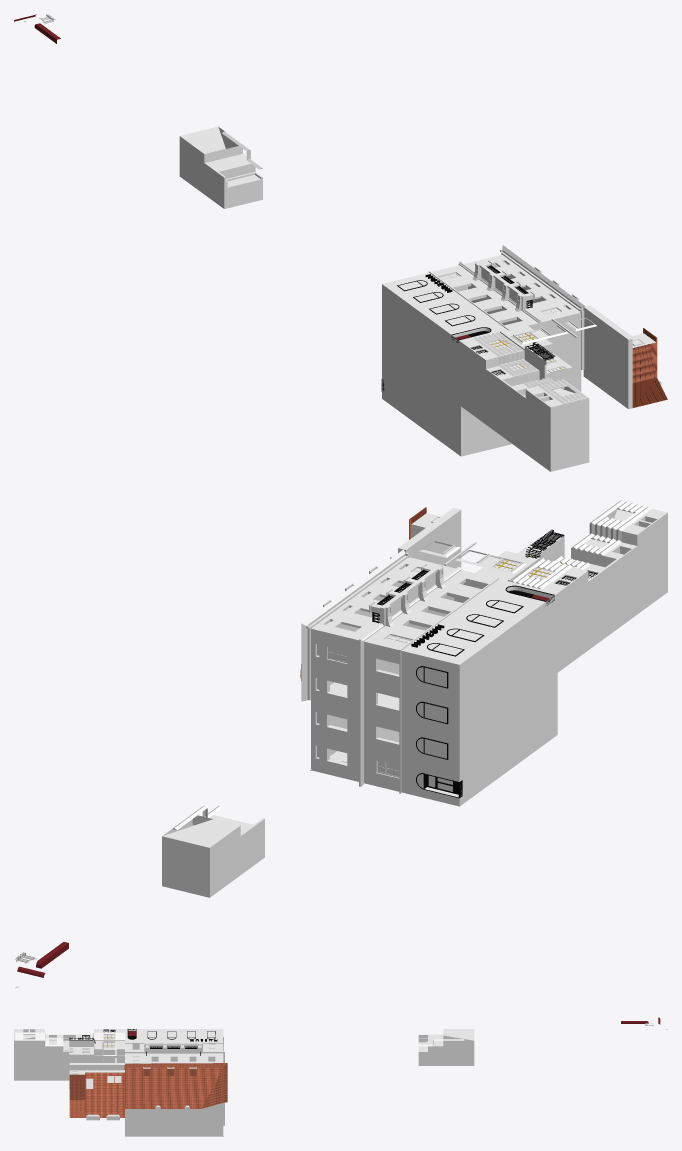
File: proj.971fe19b.glb
3 views of the same model, one above another, from view 1: azimuth 30°, elevation 25°; view 2: azimuth 150°, elevation 25°; view 3: azimuth 270°, elevation 25° (orthographic). The views are drawn at different scales.
Parts seen in each view (by area): view 1: ProzorMuzeja, Cube, Cube.024, Cube.029, Cube.003, Cube.005, Plane.001, Cube.028, Cube.021, Cube.009, ProzorMuzeja.001; view 2: ProzorMuzeja, Cube.024, Cube, Cube.029, Plane.001, Cube.003, Cube.009, Cube.021, Cube.028, ProzorMuzeja.003, ProzorMuzeja.001, Cube.026; view 3: Cube.009, Cube.024, Cube, Cube.005, Cube.029, Cube.028, ProzorMuzeja, Cube.021, Plane.001, Cube.003, ProzorMuzeja.001.
Boxes of the visible parts, x1,y1,x2,y2 form: ProzorMuzeja: (382, 272, 508, 456); Cube: (461, 339, 589, 471); Cube.024: (431, 254, 581, 444); Cube.029: (179, 126, 262, 208); Cube.003: (583, 305, 634, 409); Cube.005: (632, 328, 667, 407); Plane.001: (474, 332, 588, 404); Cube.028: (501, 325, 572, 385); Cube.021: (473, 260, 534, 311); Cube.009: (501, 245, 585, 369); ProzorMuzeja.001: (397, 280, 475, 326); ProzorMuzeja: (401, 579, 557, 806); Cube.024: (311, 557, 496, 791); Cube: (514, 508, 667, 672); Cube.029: (162, 815, 264, 897); Plane.001: (510, 500, 651, 589); Cube.003: (398, 508, 461, 568); Cube.009: (300, 549, 409, 701); Cube.021: (369, 563, 445, 626); Cube.028: (475, 529, 564, 588); ProzorMuzeja.003: (416, 666, 448, 759); ProzorMuzeja.001: (427, 600, 523, 656); Cube.026: (359, 638, 363, 786); Cube.009: (124, 1063, 227, 1110); Cube.024: (125, 1043, 223, 1136); Cube: (14, 1029, 124, 1080); Cube.005: (69, 1069, 124, 1117); Cube.029: (418, 1029, 474, 1065); Cube.028: (69, 1037, 124, 1088); ProzorMuzeja: (125, 1029, 223, 1049); Cube.021: (144, 1042, 202, 1055); Plane.001: (14, 1032, 124, 1046); Cube.003: (69, 1063, 124, 1070); ProzorMuzeja.001: (147, 1031, 215, 1039).
Bounding box in the file's own units: 21.48 × 14.64 × 106.
Materials: 14 (1 with a texture image).
